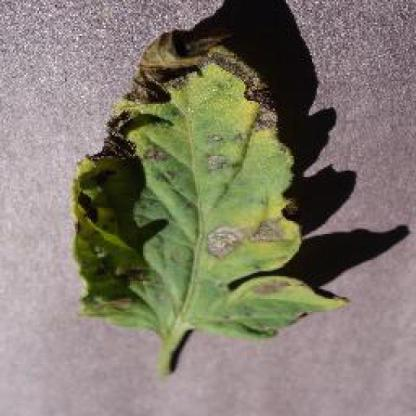Tomato_Blight: (73, 26, 348, 340)
